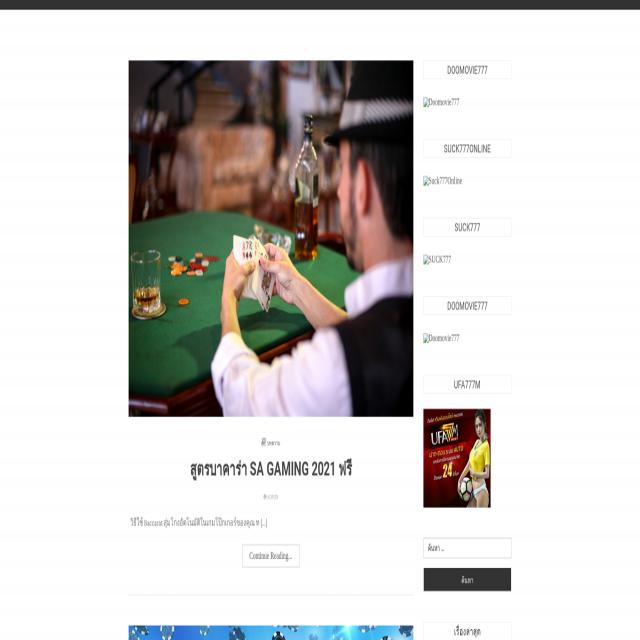button: (129, 60, 413, 417), (424, 408, 491, 508), (423, 567, 512, 592), (423, 176, 462, 186), (423, 98, 460, 108), (423, 334, 460, 344), (423, 254, 451, 264)
field: (423, 538, 512, 558)
